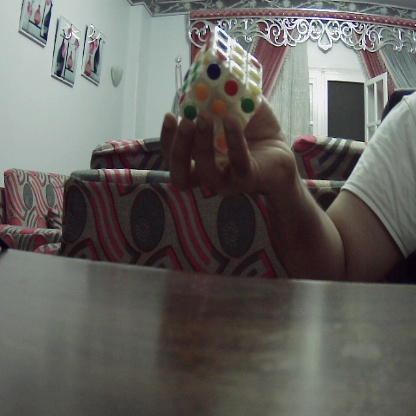Rubix Cube: (178, 31, 267, 134)
